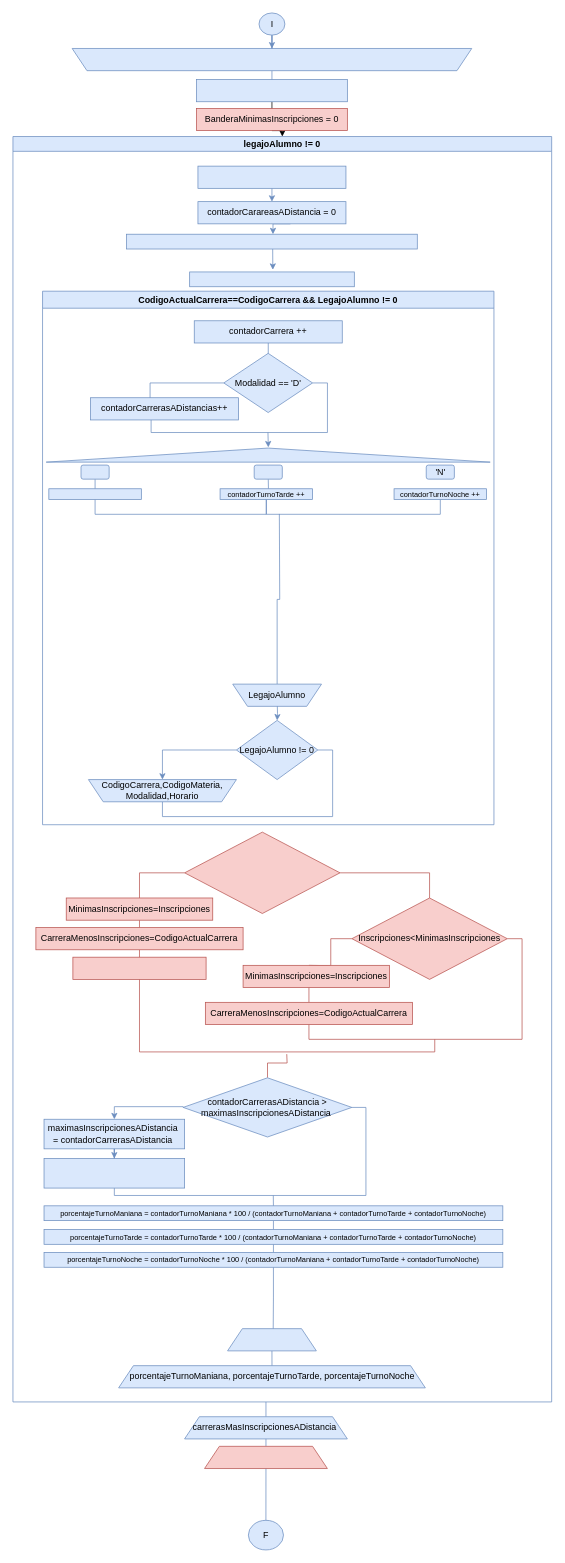
The diagram is 565 pixels wide and 1563 high, and some of its shapes have lost their labels. The box of each missing label's shape, as (x1, y1, x2, y2) in pixels:
'M': (80, 464, 109, 479)
'T': (253, 464, 282, 479)
BanderaMinimasInscripciones == 0: (184, 831, 340, 914)
BanderaMinimasInscripciones=1: (72, 956, 206, 979)
CarreaMenosInscripciones: (204, 1446, 327, 1469)
carrerasMasInscripcionesADistancia = CodigoActualCarrera: (43, 1158, 185, 1188)
CodigoActualCarrera=CodigoCarrera: (189, 271, 354, 287)
contadorCarrera: (227, 1328, 316, 1351)
contadorCarrera= 0: (197, 165, 346, 188)
contadorTurnoManiana ++: (48, 488, 141, 500)
contadorTurnoManiana = 0, contadorTurnoTarde = 0, contadorTurnoNoche = 0: (126, 233, 417, 249)
horario: (45, 447, 490, 462)
LegajoAlumno,CodigoCarrera,CodigoMateria,Modalidad,Horario: (71, 48, 472, 71)
maximasInscripcionesADistancia = 0: (196, 79, 347, 102)
